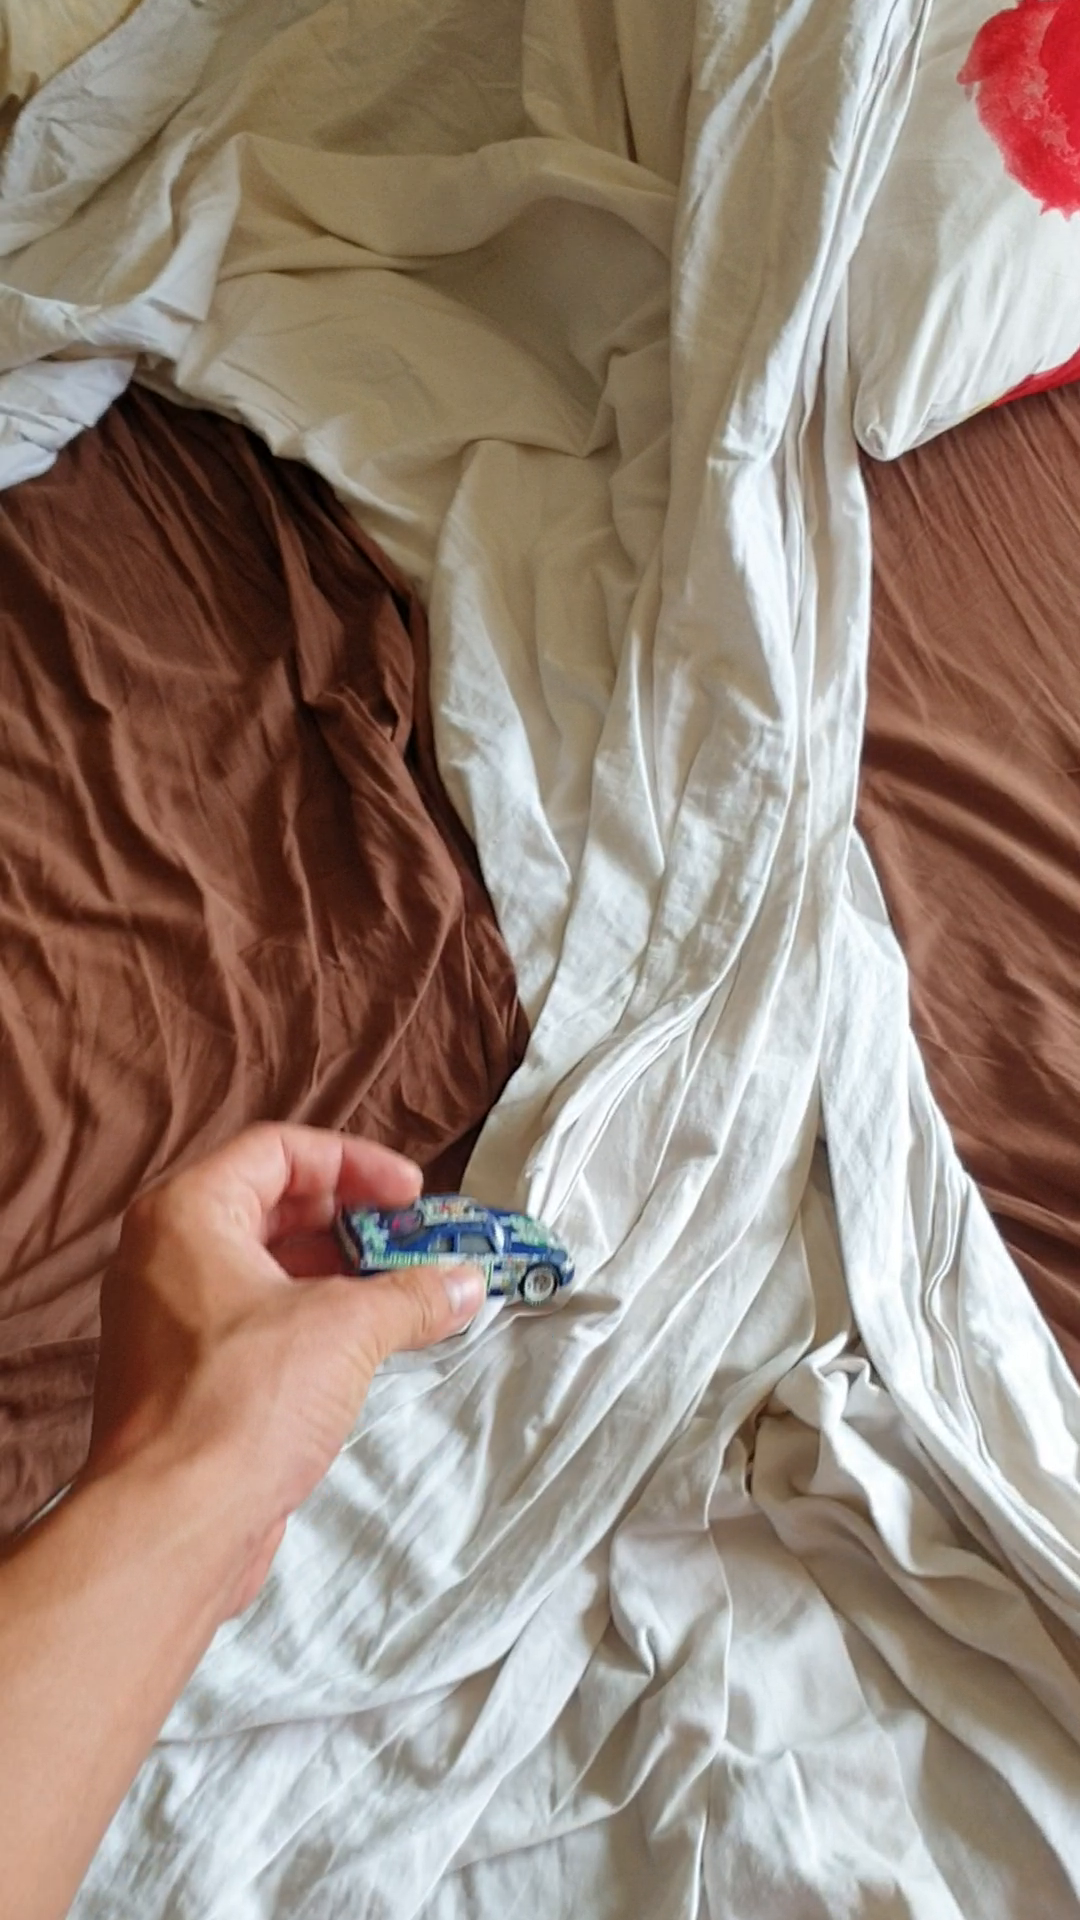cars: (330, 1193, 582, 1329)
